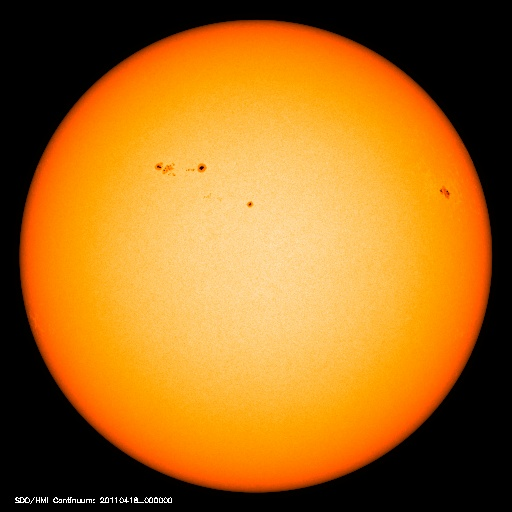sunspot: (150, 155, 215, 181), (235, 189, 261, 216), (431, 179, 458, 204)
